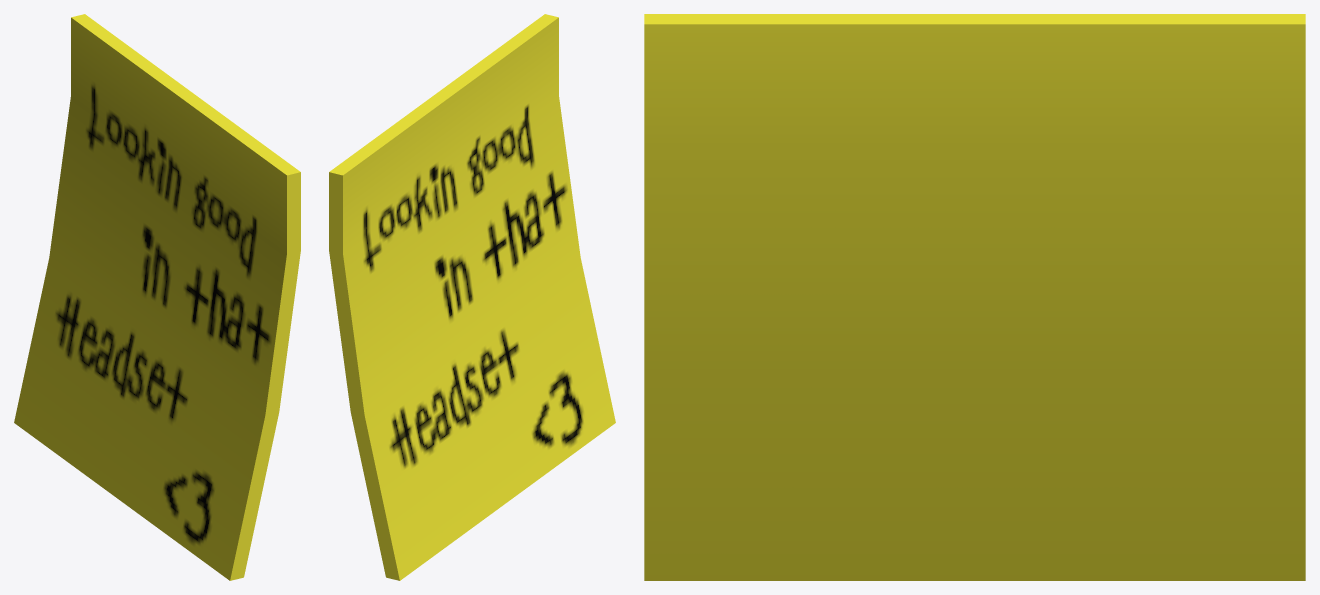
Rendered from Prop_Postit_3_v01.fbx.
3 renders of one model, left to right at view 1: azimuth 30°, elevation 25°; view 2: azimuth 150°, elevation 25°; view 3: azimuth 270°, elevation 25°, orthographic. The views are drawn at different scales.
Parts seen in each view (by area): view 1: Post_It_03; view 2: Post_It_03; view 3: Post_It_03.
Boxes of the visible parts, x1,y1,x2,y2 form: Post_It_03: (14,14,300,580); Post_It_03: (329,14,615,580); Post_It_03: (644,14,1305,580).
Size of the model in its own units: 0.5935 by 3.13 by 3.13.
